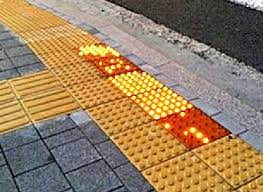guide_blocks: (145, 137, 263, 192), (1, 71, 81, 127), (83, 77, 157, 134), (22, 28, 93, 68), (2, 1, 30, 26)
